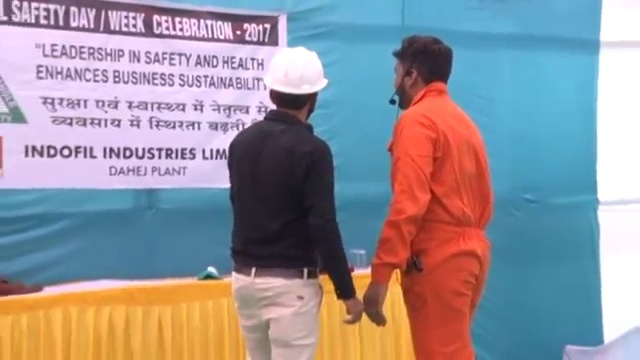helmet: (266, 46, 327, 96)
helmet_off: (386, 36, 454, 112)
helmet_on: (266, 47, 328, 122)
person: (229, 45, 365, 360), (362, 35, 492, 360)
